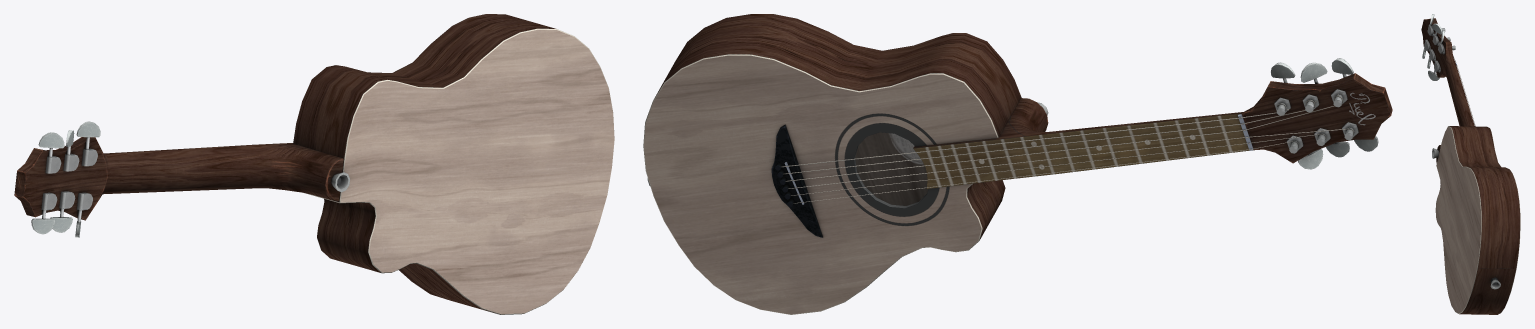
File: low_poly_guitar.glb
The picture shows the model from 3 angles, left to right: view 1: azimuth 30°, elevation 25°; view 2: azimuth 150°, elevation 25°; view 3: azimuth 270°, elevation 25°; orthographic projection. The views are drawn at different scales.
Visible parts, largest first — view 1: Line001_Material #295_0; view 2: Line001_Material #295_0; view 3: Line001_Material #295_0.
Boxes of the visible parts, left/top/right/bottom form: Line001_Material #295_0: left=14, top=14, right=614, bottom=314; Line001_Material #295_0: left=643, top=14, right=1392, bottom=314; Line001_Material #295_0: left=1421, top=14, right=1520, bottom=314.
Bounding box in the file's own units: 1.44 × 0.6818 × 0.3604.
Materials: 1 (1 with a texture image).
